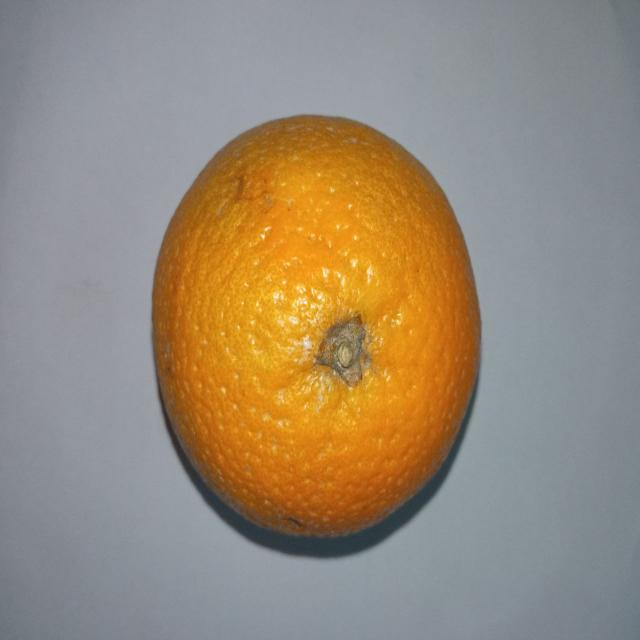fresh_orange: (152, 116, 478, 544)
